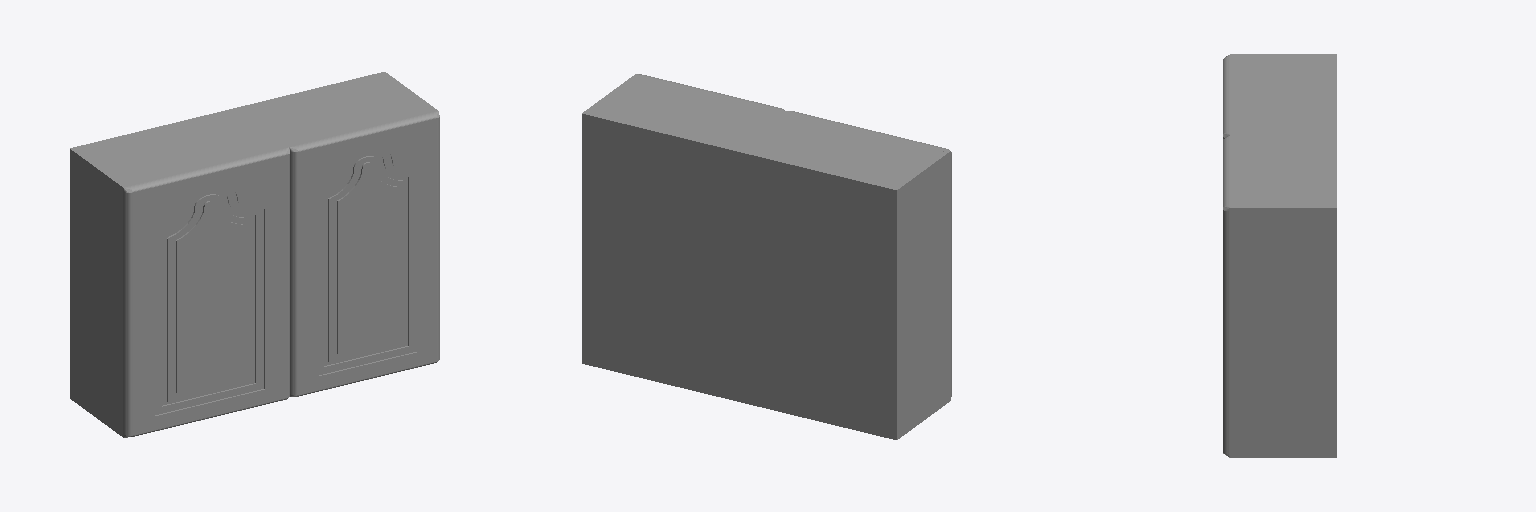
File: double-wall-unit-950.obj
3 views of the same model, side by side, from view 1: azimuth 30°, elevation 25°; view 2: azimuth 150°, elevation 25°; view 3: azimuth 270°, elevation 25° (orthographic).
Parts seen in each view (by area): view 1: Cube.003_Cube.008, Cube.004_Cube.000, Cube_Cube.002, Cube.002_Cube.004; view 2: Cube_Cube.002, Cube.002_Cube.004, Cube.001_Cube.003; view 3: Cube.001_Cube.003, Cube_Cube.002, Cube.004_Cube.000, Cube.003_Cube.008.
Boxes of the visible parts, x1=… form: Cube.003_Cube.008: x1=123, y1=147, x2=289, y2=437; Cube.004_Cube.000: x1=289, y1=111, x2=439, y2=396; Cube_Cube.002: x1=75, y1=73, x2=432, y2=185; Cube.002_Cube.004: x1=70, y1=147, x2=127, y2=436; Cube_Cube.002: x1=587, y1=76, x2=944, y2=438; Cube.002_Cube.004: x1=892, y1=150, x2=950, y2=439; Cube.001_Cube.003: x1=582, y1=74, x2=639, y2=364; Cube.001_Cube.003: x1=1230, y1=205, x2=1336, y2=457; Cube_Cube.002: x1=1230, y1=56, x2=1336, y2=204; Cube.004_Cube.000: x1=1223, y1=135, x2=1229, y2=457; Cube.003_Cube.008: x1=1223, y1=55, x2=1229, y2=138.
Size of the model in its own units: 190 by 144 by 60.